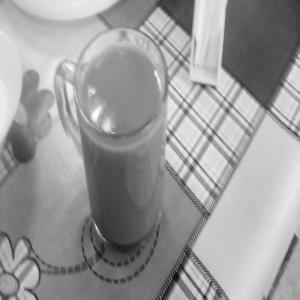coffee: (35, 24, 192, 255)
